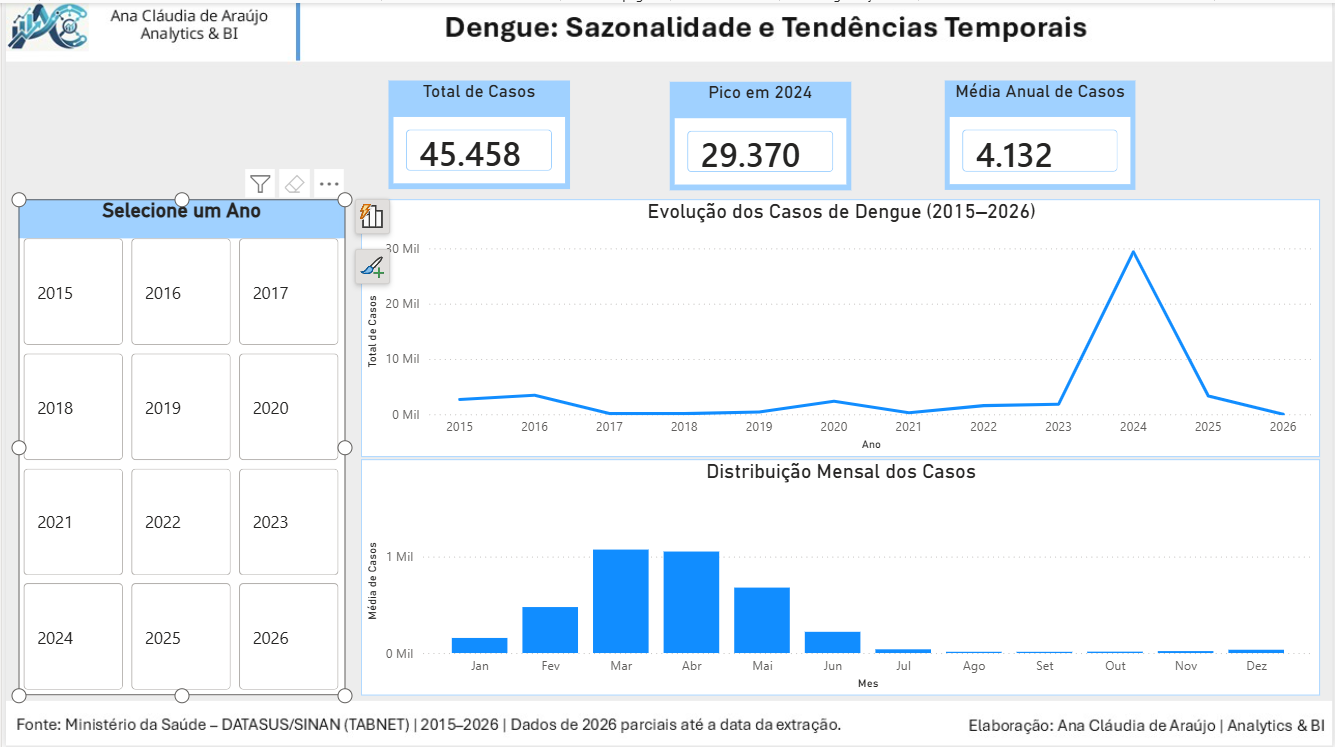

The dashboard page shown, as its layout file describes it:
{"tool":"powerbi","page":{"name":"Página 1","canvas":[1280,720],"ordinal":0},"visuals":[{"type":"cardVisual","title":"Total de Casos","fields":{"Data":["dengue_sazonalidade_limpo.Total de Casos"]},"box":[369.6,74.8,175,105],"z":0},{"type":"cardVisual","title":"Pico em 2024 ","fields":{"Data":["dengue_sazonalidade_limpo.Casos 2024"]},"box":[640.7,75.4,175,105],"z":1000},{"type":"cardVisual","title":"Média Anual de Casos","fields":{"Data":["dengue_sazonalidade_limpo.Média Anual"]},"box":[906,75,184.3,105.3],"z":2000},{"type":"lineChart","title":"Evolução dos Casos de Dengue (2015–2026)","fields":{"Category":["dengue_sazonalidade_limpo.Ano"],"Y":["dengue_sazonalidade_limpo.Total de Casos"]},"box":[342.6,189.4,925.3,248.5],"z":3000},{"type":"lineClusteredColumnComboChart","title":"Distribuição Mensal dos Casos","fields":{"Category":["DimMes.Mes"],"Y":["Avg(dengue_sazonalidade_limpo.Casos)"]},"box":[342.6,440.4,925.3,228],"z":4000},{"type":"advancedSlicerVisual","title":"Selecione um Ano","fields":{"Values":["dengue_sazonalidade_limpo.Ano"]},"box":[12.1,189.4,314.9,479],"z":5000}]}

Visuals, with their boxes in screenshot pixels (x1, y1, x2, y2), scaled from the page's 1280x720 canvas onto the 1335x747 screenshot:
"Total de Casos" cardVisual: x1=385 y1=78 x2=568 y2=187
"Pico em 2024 " cardVisual: x1=668 y1=78 x2=851 y2=187
"Média Anual de Casos" cardVisual: x1=945 y1=78 x2=1137 y2=187
"Evolução dos Casos de Dengue (2015–2026)" lineChart: x1=357 y1=197 x2=1322 y2=454
"Distribuição Mensal dos Casos" lineClusteredColumnComboChart: x1=357 y1=457 x2=1322 y2=693
"Selecione um Ano" advancedSlicerVisual: x1=13 y1=197 x2=341 y2=693
